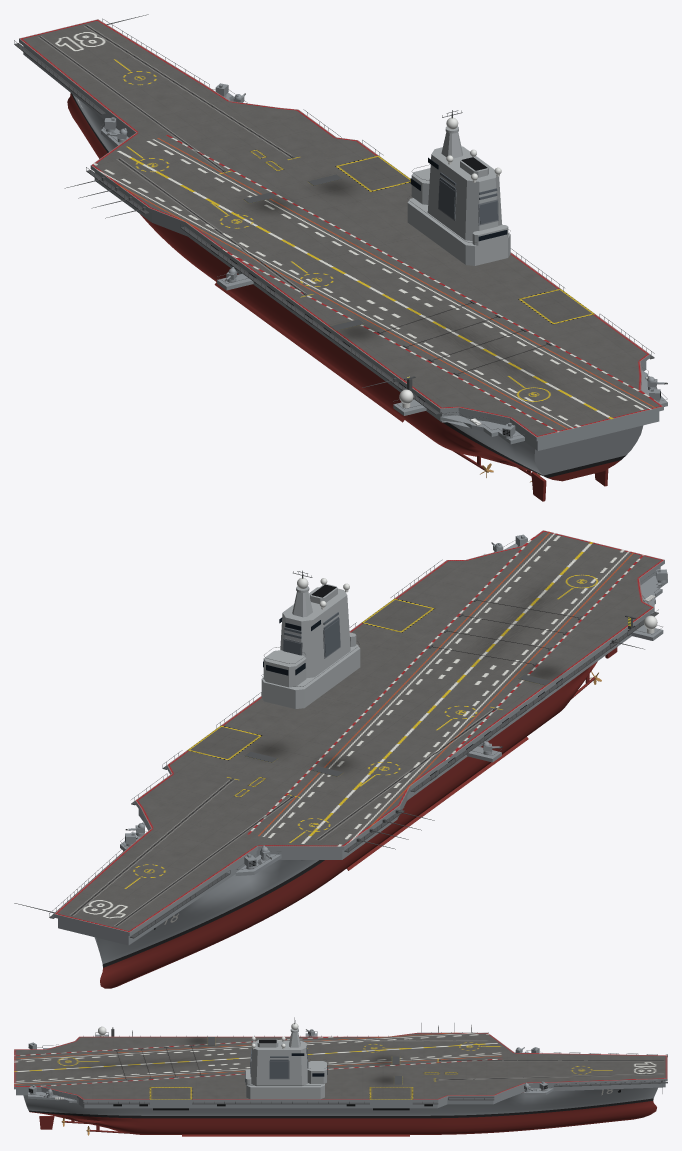
Rendered from fujian.glb.
3 renders of one model, top to bottom at view 1: azimuth 30°, elevation 25°; view 2: azimuth 150°, elevation 25°; view 3: azimuth 270°, elevation 25°, orthographic. The views are drawn at different scales.
Visible parts, largest first — view 1: Flight deck slab, Hull (waterline at Z=0), Gallery deck band, Island main block, Island podium, Catwalks, Weapon sponsons, Rudders & bilge keels, Island S/X-band arrays (Type 346B style), Catwalk safety-net frames; view 2: Flight deck slab, Hull (waterline at Z=0), Gallery deck band, Island main block, Island podium, Catwalks, Weapon sponsons, Bridge wing, Catwalk safety-net frames, Island S/X-band arrays (Type 346B style), Rudders & bilge keels; view 3: Flight deck slab, Hull (waterline at Z=0), Gallery deck band, Island main block, Catwalks, Island podium, Rudders & bilge keels, Weapon sponsons, Island S/X-band arrays (Type 346B style), Bridge wing, Catwalk safety-net frames, HQ-10 launchers (24-cell) (+3 smaller).
Part boxes in pixels (<box>): Flight deck slab: <box>19,19,663,441</box>; Hull (waterline at Z=0): <box>67,93,643,481</box>; Gallery deck band: <box>23,46,659,450</box>; Island main block: <box>427,146,501,240</box>; Island podium: <box>407,198,510,265</box>; Catwalks: <box>14,43,654,414</box>; Weapon sponsons: <box>101,93,667,444</box>; Rudders & bilge keels: <box>214,282,608,501</box>; Island S/X-band arrays (Type 346B style): <box>438,172,497,224</box>; Catwalk safety-net frames: <box>14,18,654,410</box>; Flight deck slab: <box>54,530,664,935</box>; Hull (waterline at Z=0): <box>94,661,597,988</box>; Gallery deck band: <box>58,567,660,945</box>; Island main block: <box>280,587,350,678</box>; Island podium: <box>261,644,360,708</box>; Catwalks: <box>49,612,658,938</box>; Weapon sponsons: <box>120,543,667,875</box>; Bridge wing: <box>263,650,306,687</box>; Catwalk safety-net frames: <box>49,559,658,934</box>; Island S/X-band arrays (Type 346B style): <box>283,612,340,657</box>; Rudders & bilge keels: <box>346,647,617,870</box>; Flight deck slab: <box>14,1032,667,1101</box>; Hull (waterline at Z=0): <box>23,1087,657,1134</box>; Gallery deck band: <box>16,1081,665,1108</box>; Island main block: <box>250,1040,308,1086</box>; Catwalks: <box>83,1081,667,1104</box>; Island podium: <box>246,1083,324,1099</box>; Rudders & bilge keels: <box>39,1116,409,1136</box>; Weapon sponsons: <box>28,1033,553,1102</box>; Island S/X-band arrays (Type 346B style): <box>250,1049,308,1078</box>; Bridge wing: <box>307,1061,326,1083</box>; Catwalk safety-net frames: <box>83,1032,667,1103</box>; HQ-10 launchers (24-cell): <box>28,1042,547,1094</box>.
Bounding box in the file's own units: 91.66 × 68.05 × 315.
Materials: 15 (1 with a texture image).
